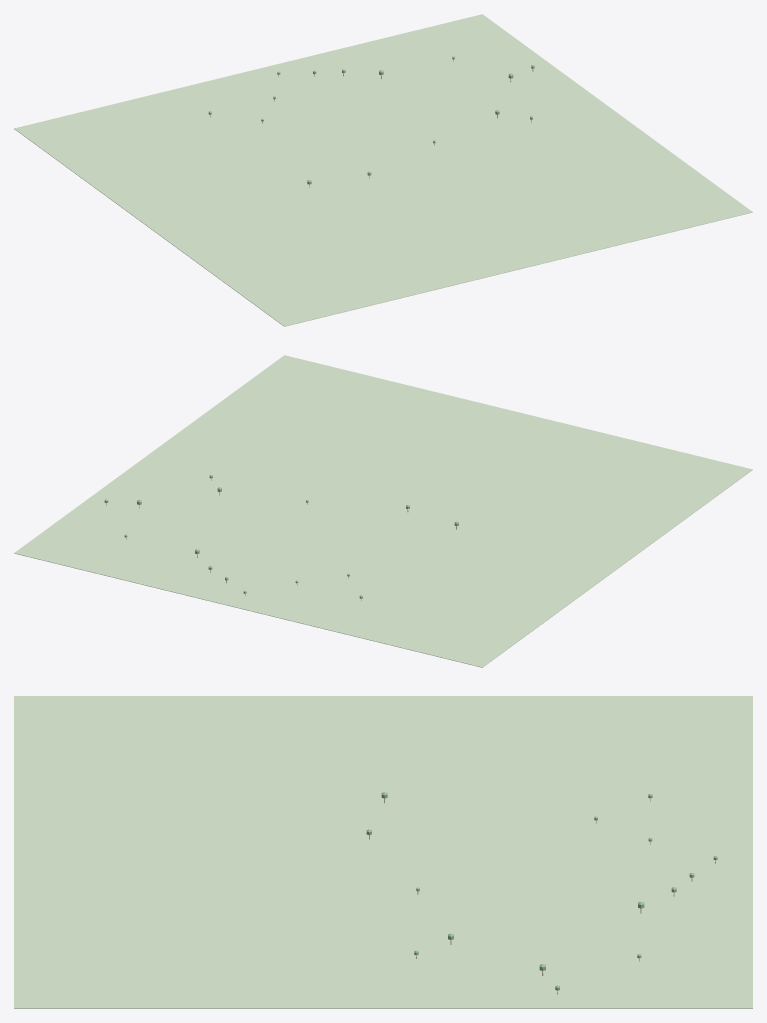
The model's file is chunk_0_7_low.glb.
3 renders of one model, top to bottom at view 1: azimuth 30°, elevation 25°; view 2: azimuth 150°, elevation 25°; view 3: azimuth 270°, elevation 25°, orthographic. The views are drawn at different scales.
Visible parts, largest first — view 1: city_grass; view 2: city_grass; view 3: city_grass.
Part boxes in pixels (x1,y1,x2,y2): city_grass: (14, 14, 752, 326); city_grass: (14, 355, 752, 667); city_grass: (14, 696, 752, 1008).
Bounding box in the file's own units: 512 × 9.52 × 512.
